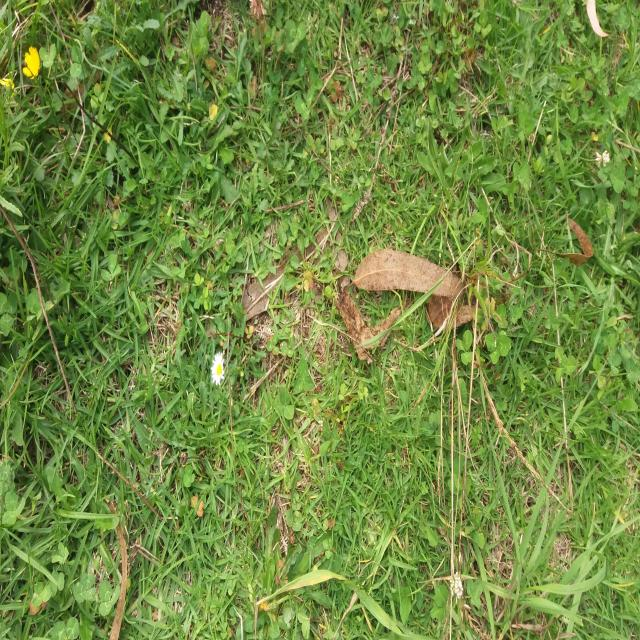Four Leaf Clover: (531, 311, 555, 330), (280, 340, 293, 357)
